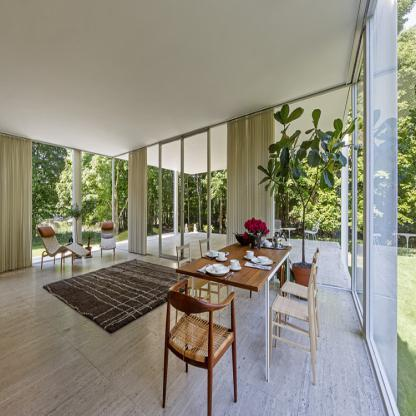chair: (159, 273, 243, 416), (265, 264, 325, 379), (169, 240, 223, 319), (282, 247, 329, 334), (37, 222, 91, 274), (99, 220, 118, 264)
table: (171, 241, 293, 383)
